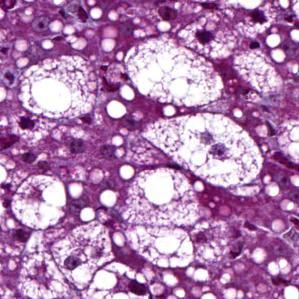ballooning: (142, 110, 265, 192), (120, 39, 225, 110), (16, 50, 97, 122), (114, 223, 196, 270), (9, 173, 71, 233)
